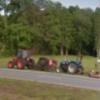tractors: (7, 48, 36, 72), (57, 56, 84, 75)
